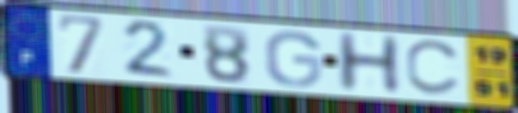2: (120, 18, 175, 83)
7: (55, 13, 107, 77)
8: (200, 24, 254, 85)
C: (402, 38, 466, 98)
G: (263, 29, 325, 89)
H: (332, 30, 405, 94)
